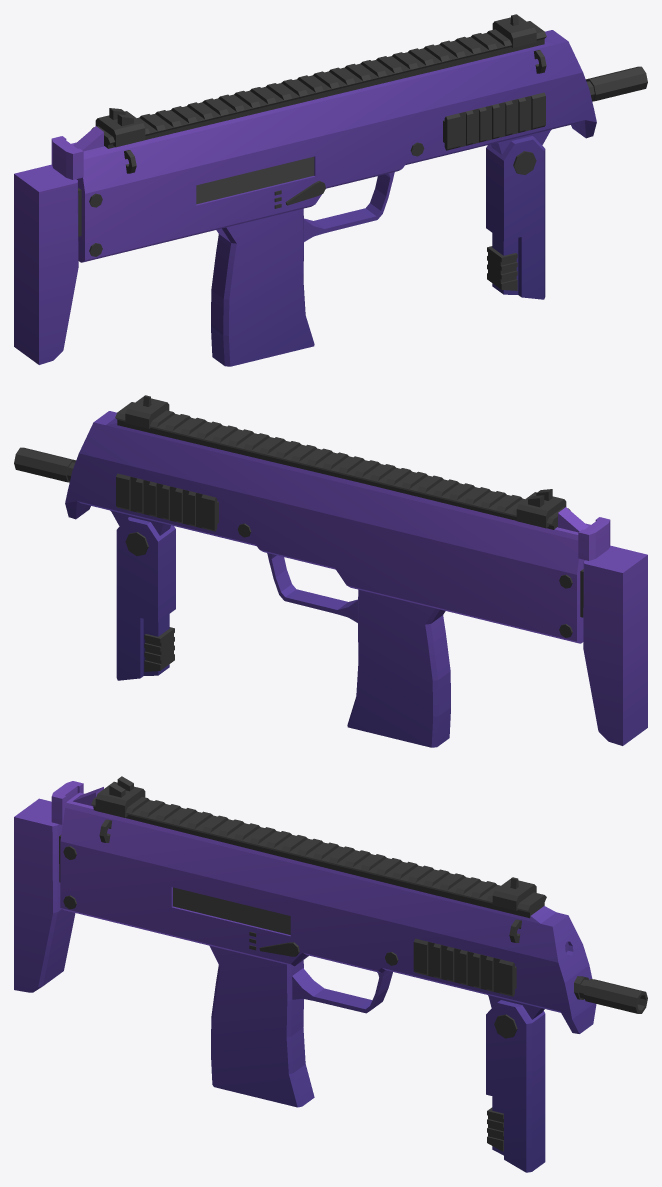
The model's file is SMG3_05.fbx.
The picture shows the model from 3 angles, top to bottom: view 1: azimuth 30°, elevation 25°; view 2: azimuth 150°, elevation 25°; view 3: azimuth 330°, elevation 25°; orthographic projection.
Parts seen in each view (by area): view 1: SMG3_05; view 2: SMG3_05; view 3: SMG3_05.
Boxes of the visible parts, box(x1,y1,x2,y2) form: SMG3_05: box(14, 14, 647, 366); SMG3_05: box(14, 395, 647, 747); SMG3_05: box(14, 776, 647, 1172).
Size of the model in its own units: 0.4641 by 0.204 by 0.044.
